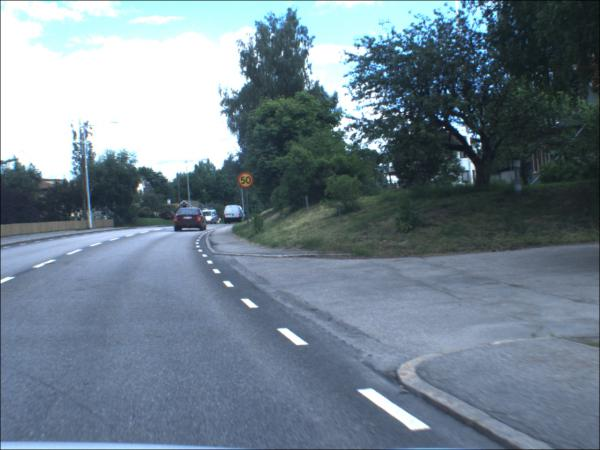50_SIGN: (239, 173, 256, 190)
